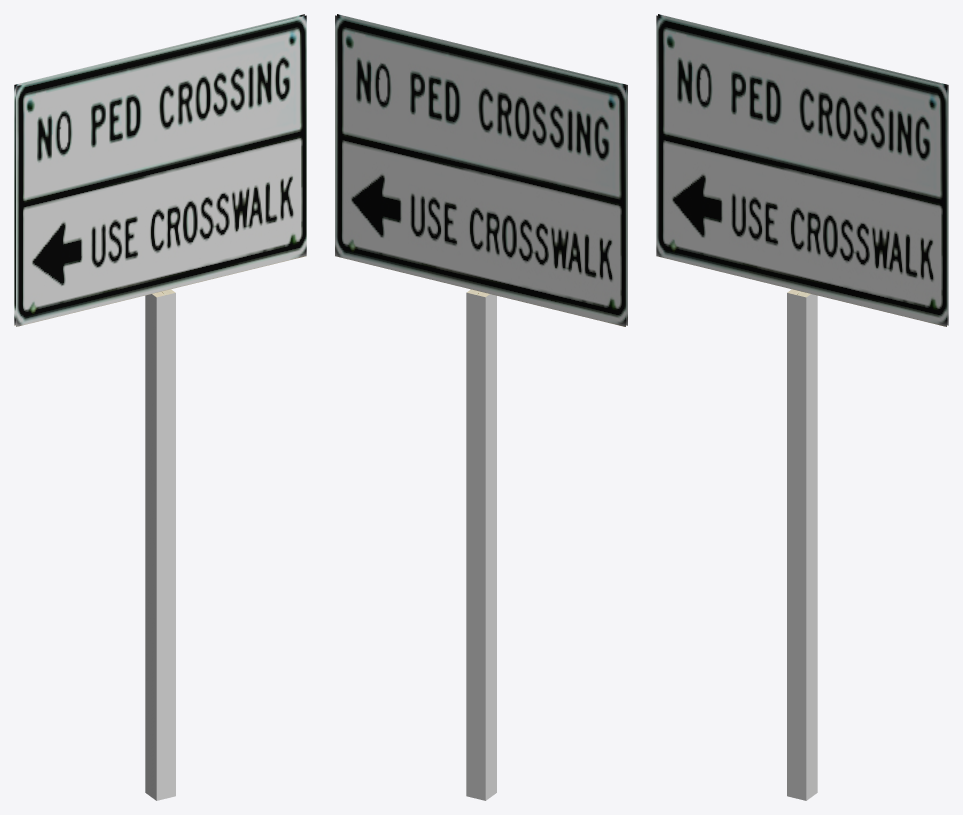
File: sign07.FBX
The picture shows the model from 3 angles, left to right: view 1: azimuth 30°, elevation 25°; view 2: azimuth 150°, elevation 25°; view 3: azimuth 330°, elevation 25°; orthographic projection.
Visible parts, largest first — view 1: sign07-noped; view 2: sign07-noped; view 3: sign07-noped.
Part boxes in pixels (x1=…): sign07-noped: x1=14, y1=14, x2=306, y2=800; sign07-noped: x1=335, y1=14, x2=627, y2=800; sign07-noped: x1=656, y1=14, x2=948, y2=800.
Size of what is drawn, in the model's own units: 0.9066 by 0.06 by 2.22.
